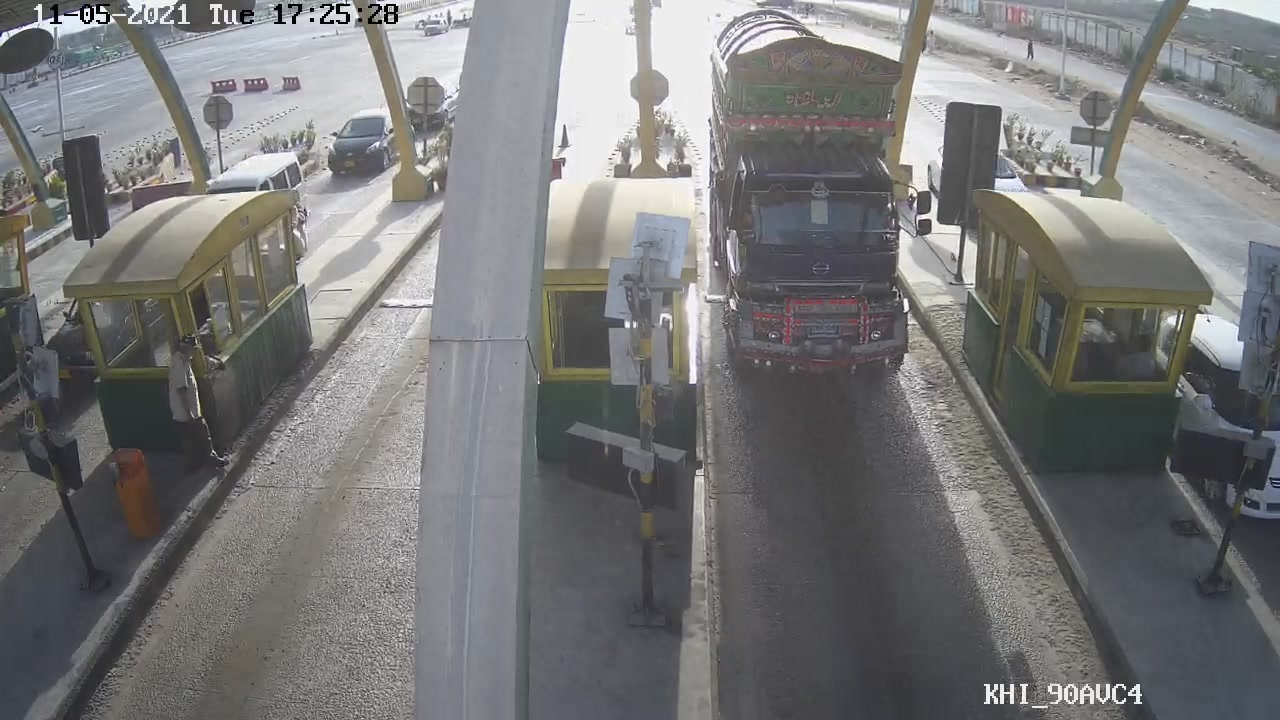F5: (690, 19, 937, 392)
